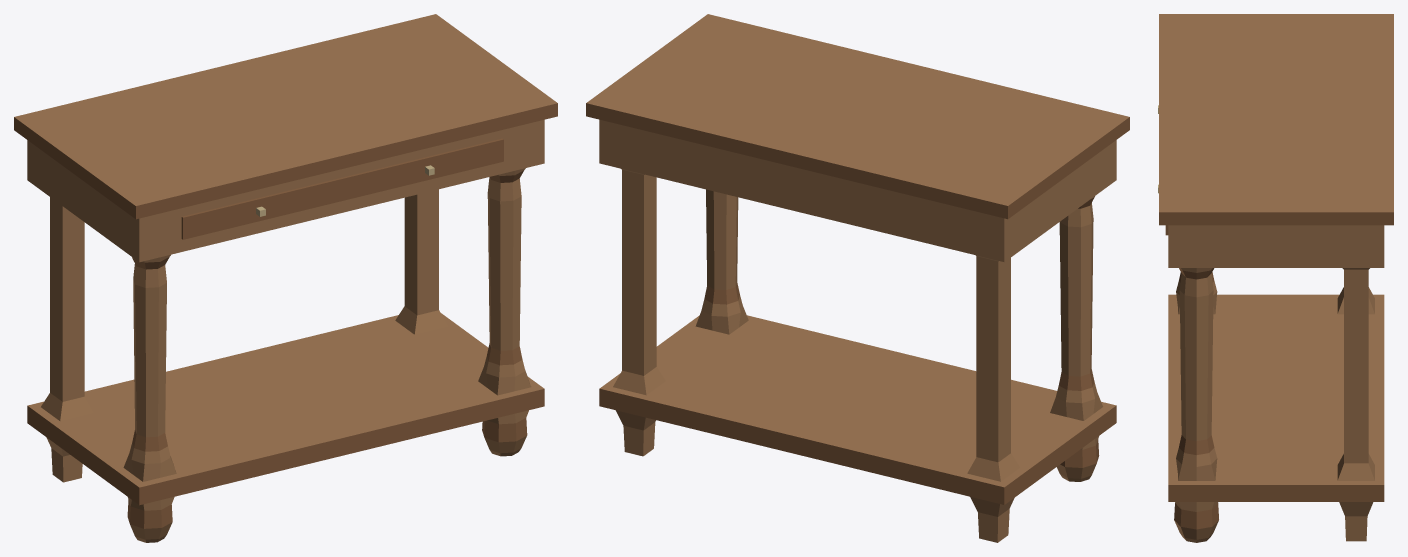
File: mesita2.fbx
The picture shows the model from 3 angles, left to right: view 1: azimuth 30°, elevation 25°; view 2: azimuth 150°, elevation 25°; view 3: azimuth 270°, elevation 25°; orthographic projection. The views are drawn at different scales.
Parts seen in each view (by area): view 1: consola_imperio; view 2: consola_imperio; view 3: consola_imperio.
Part boxes in pixels (box(x1,y1,x2,y2)): consola_imperio: box(14, 14, 557, 542); consola_imperio: box(586, 14, 1129, 542); consola_imperio: box(1158, 14, 1393, 542).
Bounding box in the file's own units: 100 × 80 × 50.2.
